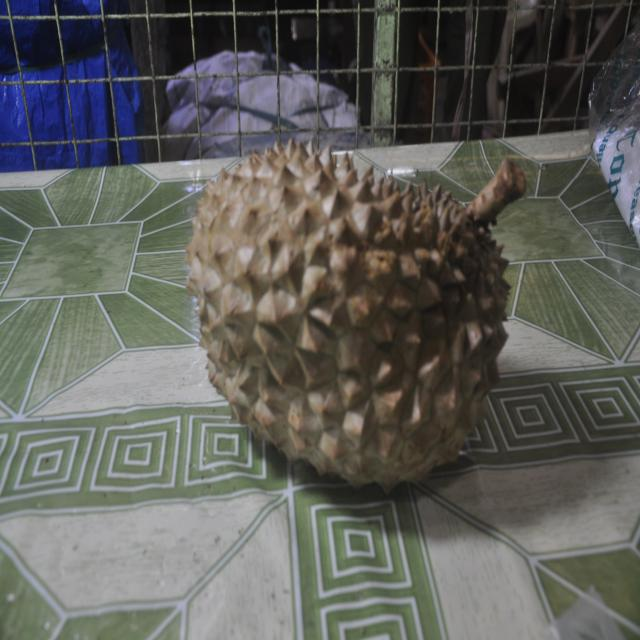mature: (186, 139, 509, 493)
